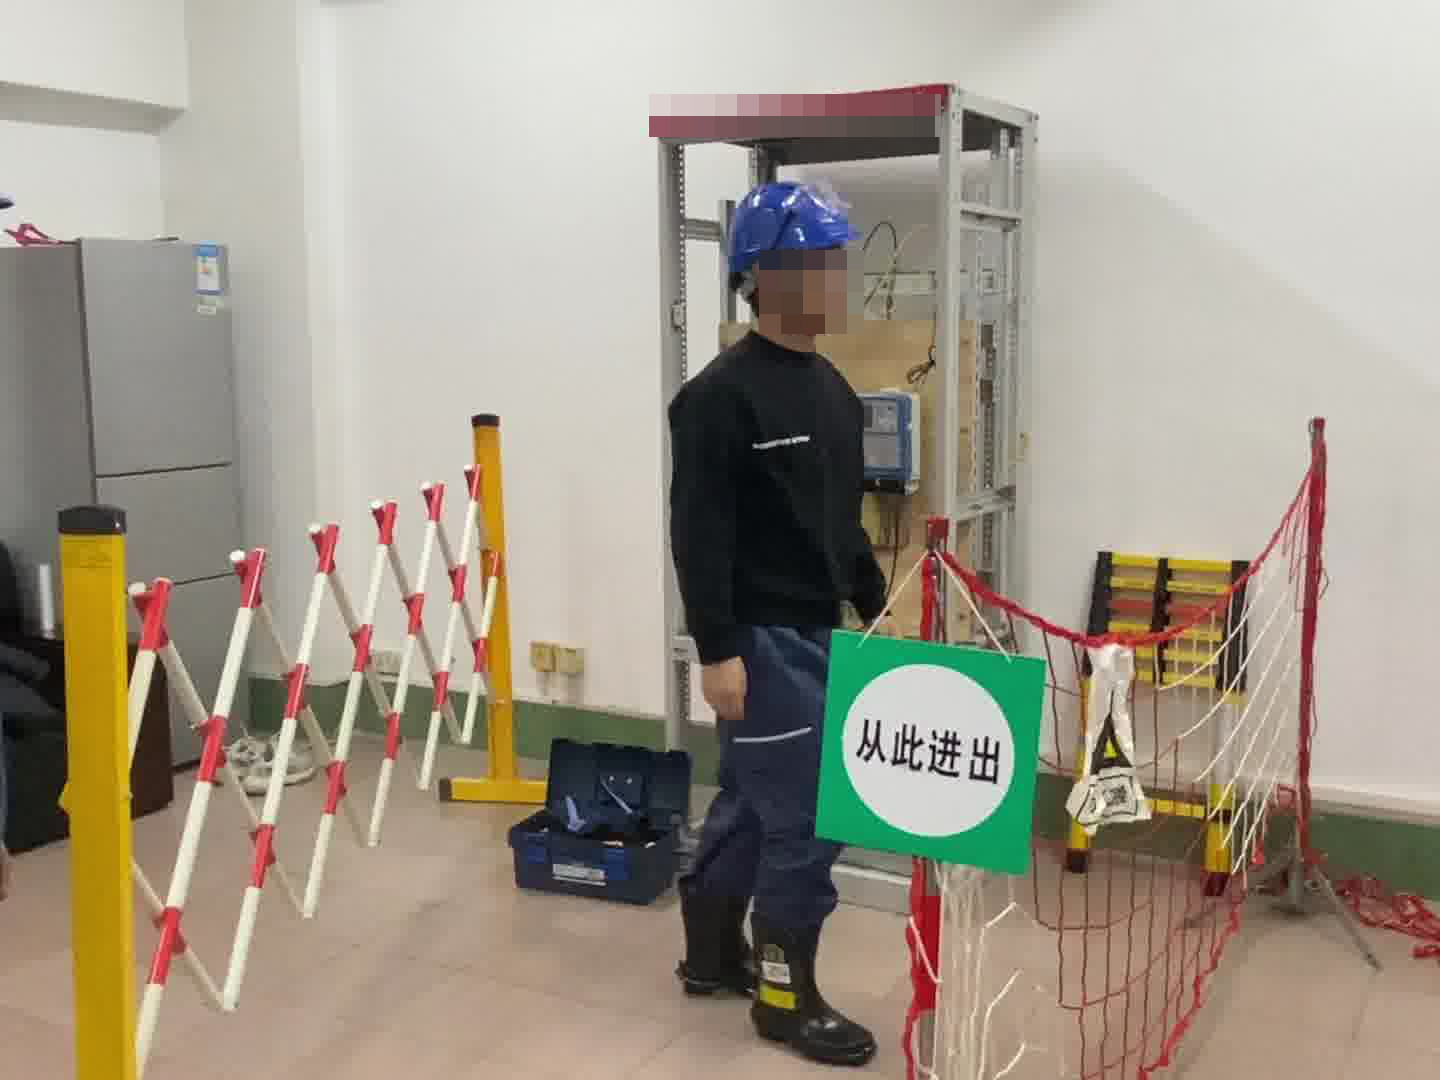downsuit: (680, 626, 843, 956)
halt: (720, 178, 867, 344)
hand: (699, 655, 750, 725)
inear: (740, 258, 799, 319)
intosign: (812, 636, 1047, 874)
person: (657, 165, 897, 1027)
shoe: (663, 884, 866, 1058)
upcloth: (669, 341, 879, 634)
